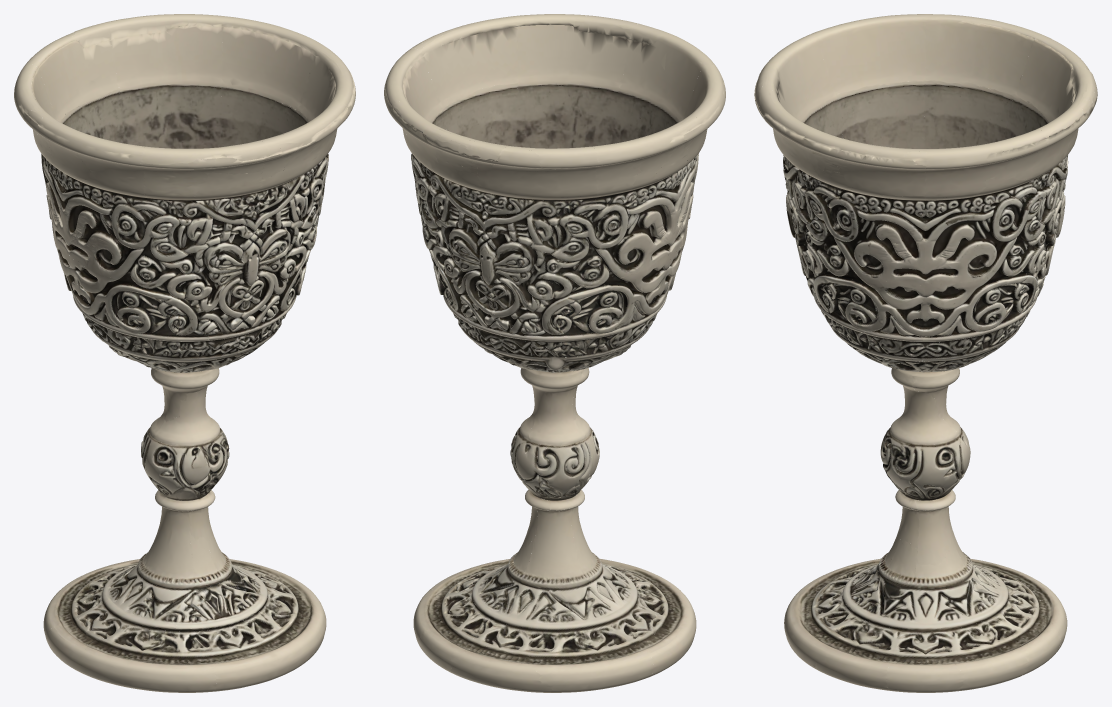
The model's file is kiddush-cup.glb.
The picture shows the model from 3 angles, left to right: view 1: azimuth 30°, elevation 25°; view 2: azimuth 150°, elevation 25°; view 3: azimuth 270°, elevation 25°; orthographic projection.
Visible parts, largest first — view 1: tripo_node_24c94afd-d79a-431d-a544-0e968852009b; view 2: tripo_node_24c94afd-d79a-431d-a544-0e968852009b; view 3: tripo_node_24c94afd-d79a-431d-a544-0e968852009b.
Part boxes in pixels (x1,y1,x2,y2): tripo_node_24c94afd-d79a-431d-a544-0e968852009b: [14, 14, 355, 692]; tripo_node_24c94afd-d79a-431d-a544-0e968852009b: [384, 14, 725, 692]; tripo_node_24c94afd-d79a-431d-a544-0e968852009b: [754, 14, 1097, 692].
Bounding box in the file's own units: 0.5496 × 0.9796 × 0.5505.
Materials: 1 (1 with a texture image).
